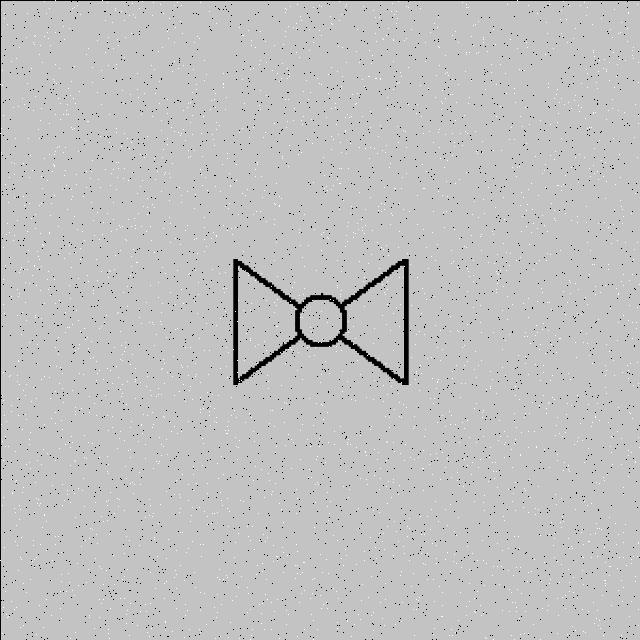Ball Valve: (183, 202, 449, 420)
